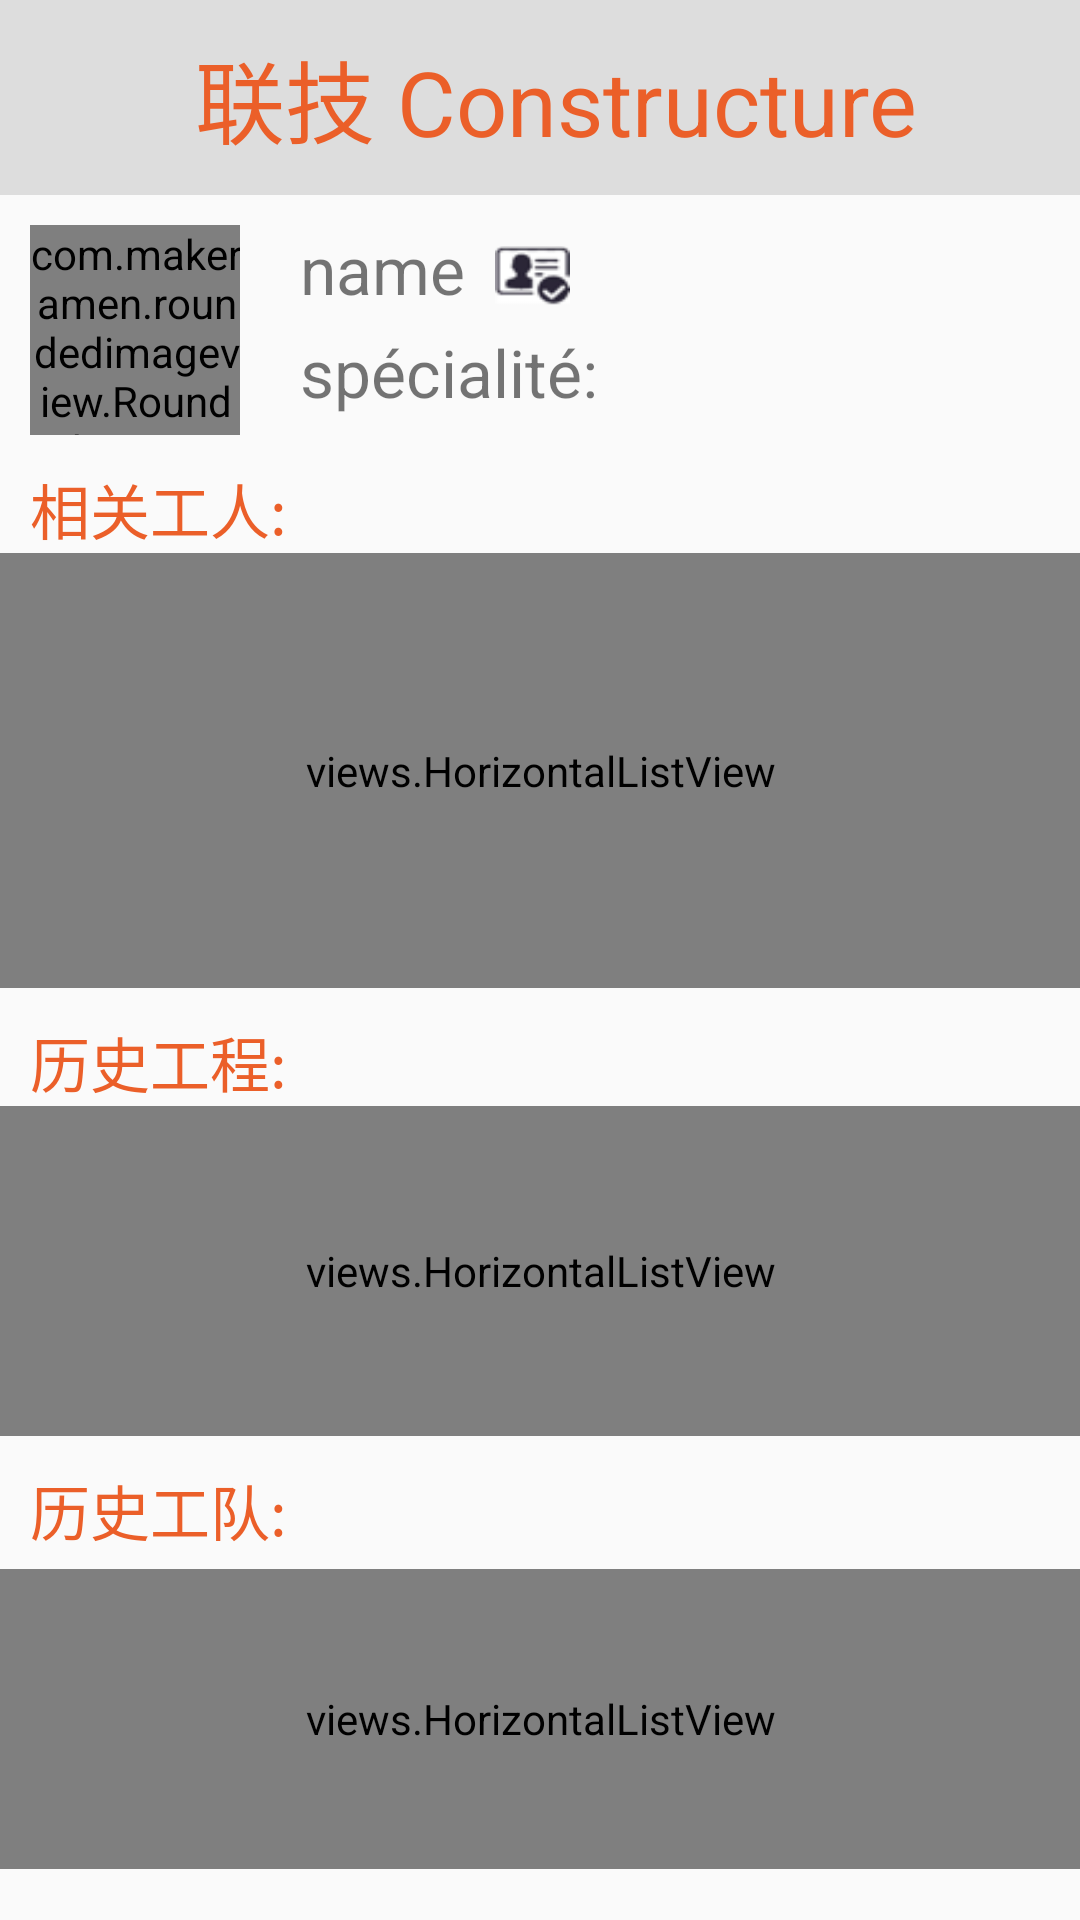

Where to tap for icons on this 1080w x 1920h app screen, as [x,y]:
idcard: [532,275]
